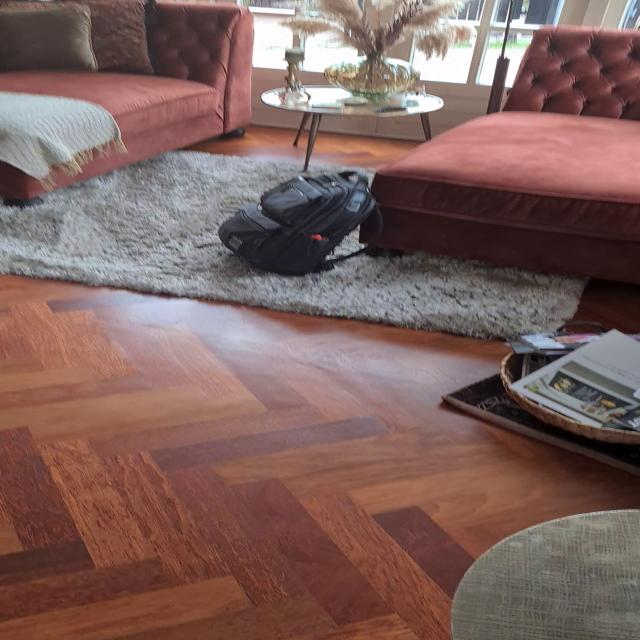backpack: (212, 166, 390, 276)
